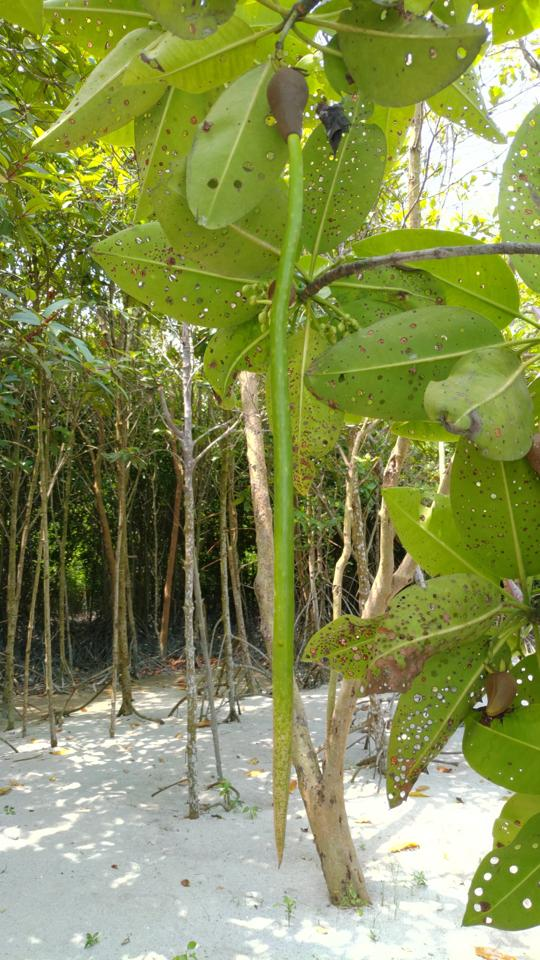mentah: (256, 41, 334, 884)
